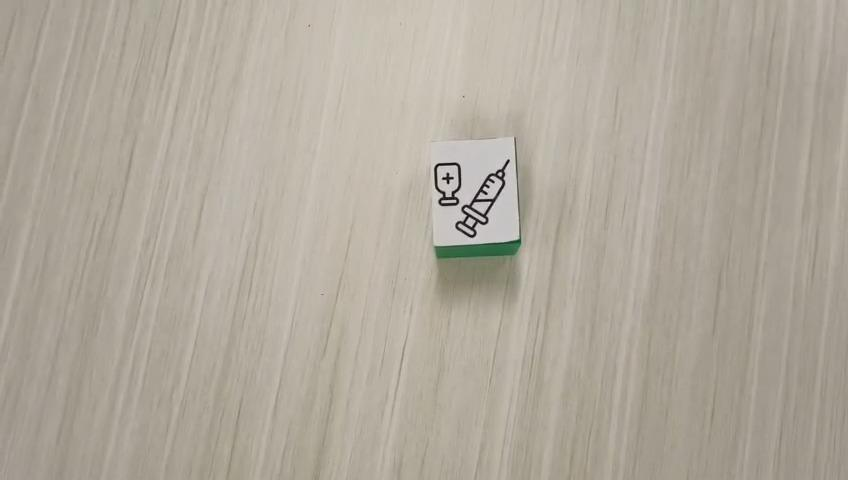antiseptic cream: (428, 135, 522, 258)
